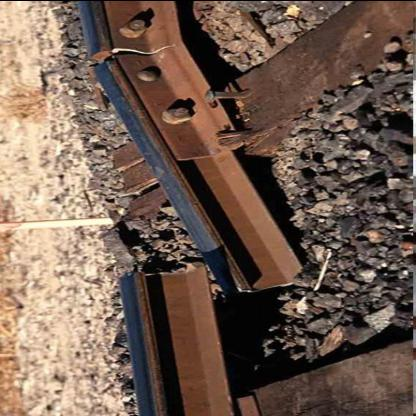Defective: (48, 17, 327, 401)
